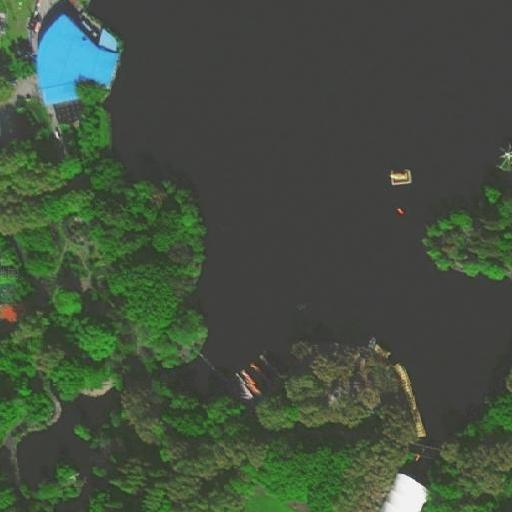building: (35, 21, 113, 107), (381, 475, 430, 511), (0, 289, 35, 320)
